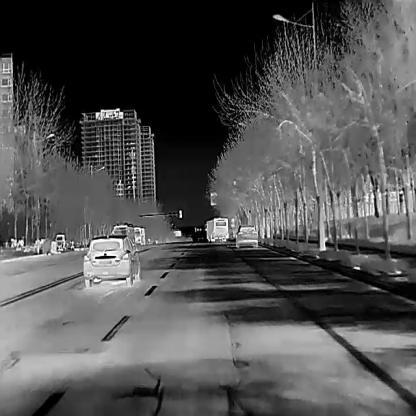car: (83, 234, 140, 285), (235, 223, 258, 247), (206, 217, 229, 241), (111, 222, 135, 245), (134, 224, 146, 245)
